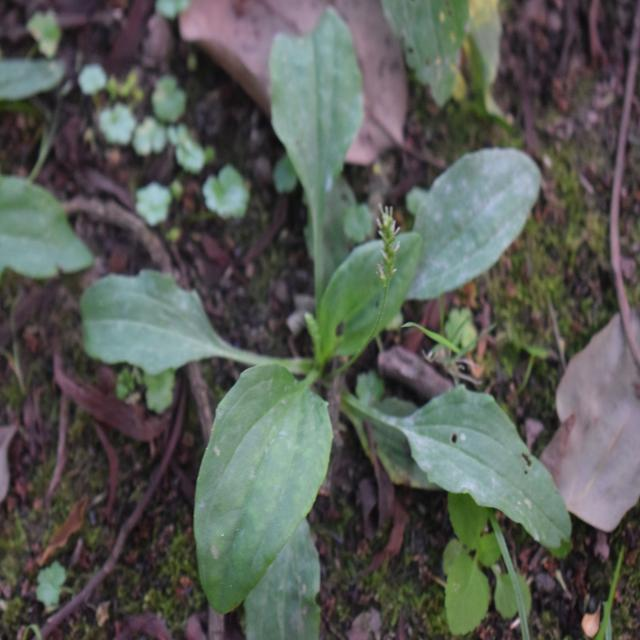plantain: (124, 43, 548, 586)
